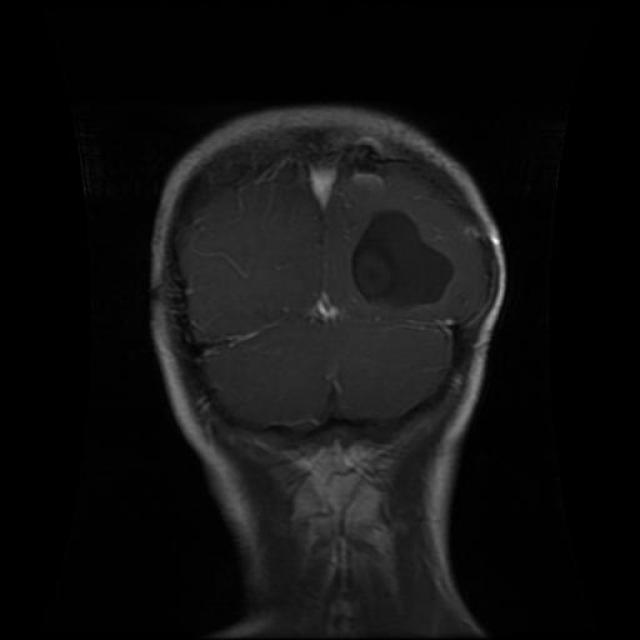glioma: (352, 208, 452, 298)
